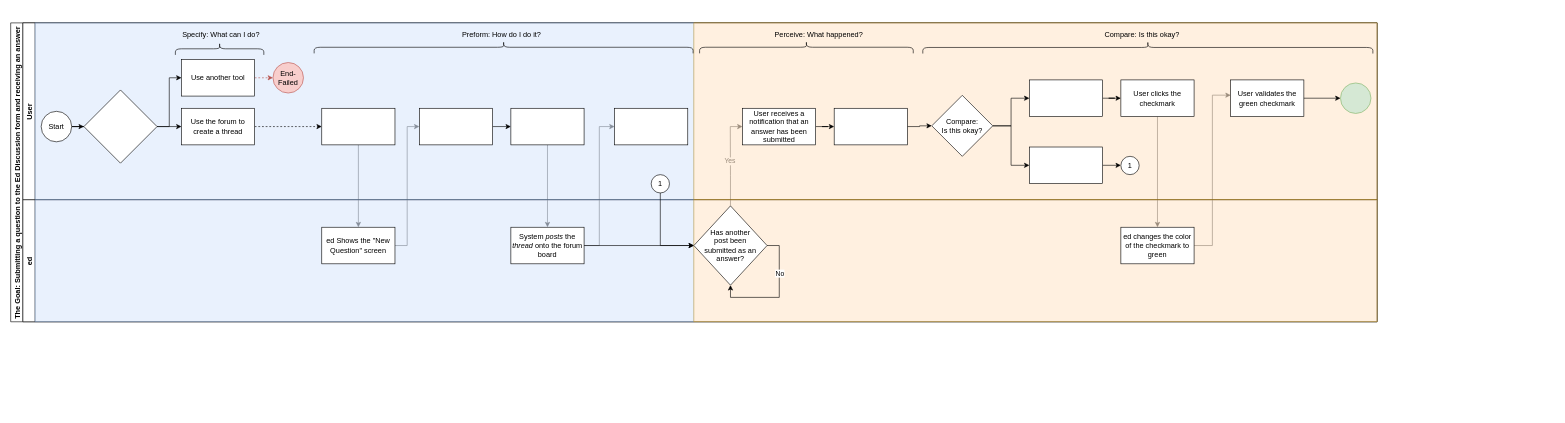
Some shapes in this 1565 by 423 pixel diagram are drawn without their labels. Here are the shapes that lost their labels. From the top down, the centre of each, then its label:
the point at 1066,98: Yes: The user accepts the answer
the point at 1355,97: End-Passed
the point at 120,126: Plan: What are the alternatives?
the point at 358,126: User clicks "New Thread"
the point at 456,126: User enters information
the point at 547,126: User selects "Post"
the point at 651,126: User validates that the thread is visible on the forum board
the point at 870,126: User reviews the answer submitted
the point at 1066,165: No: The User does not accept the answer
